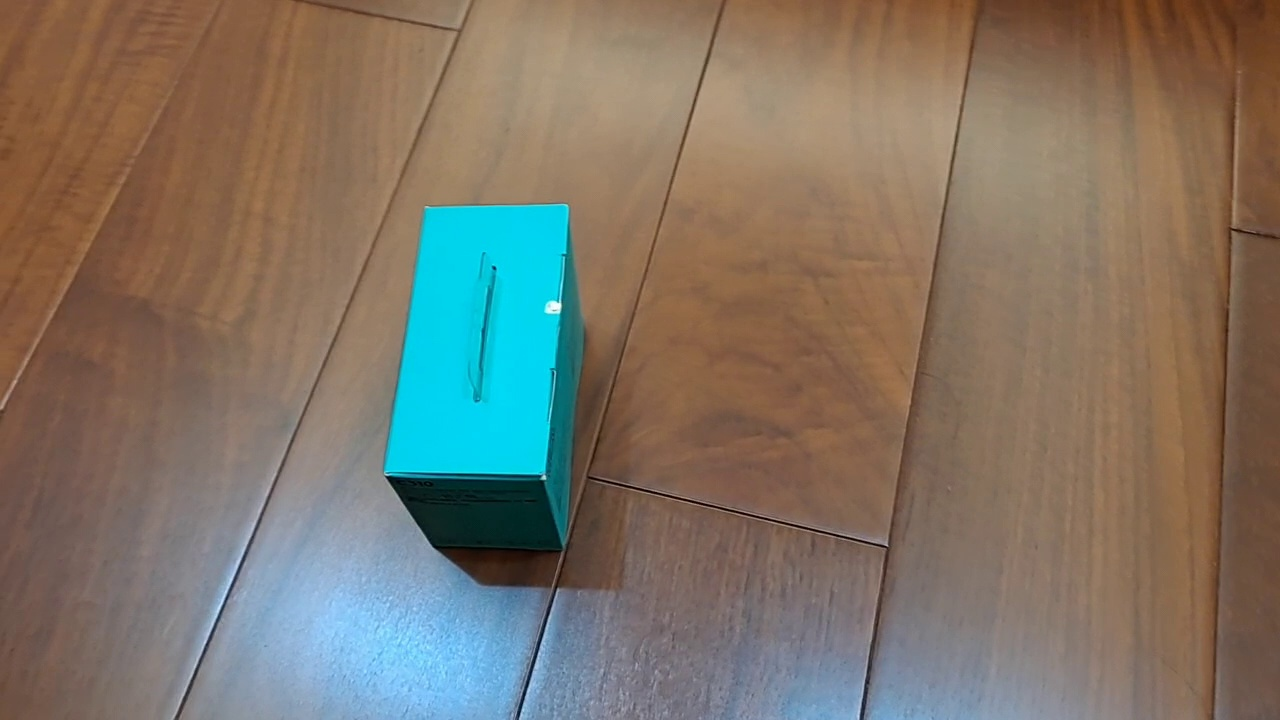webcam: (382, 202, 586, 552)
